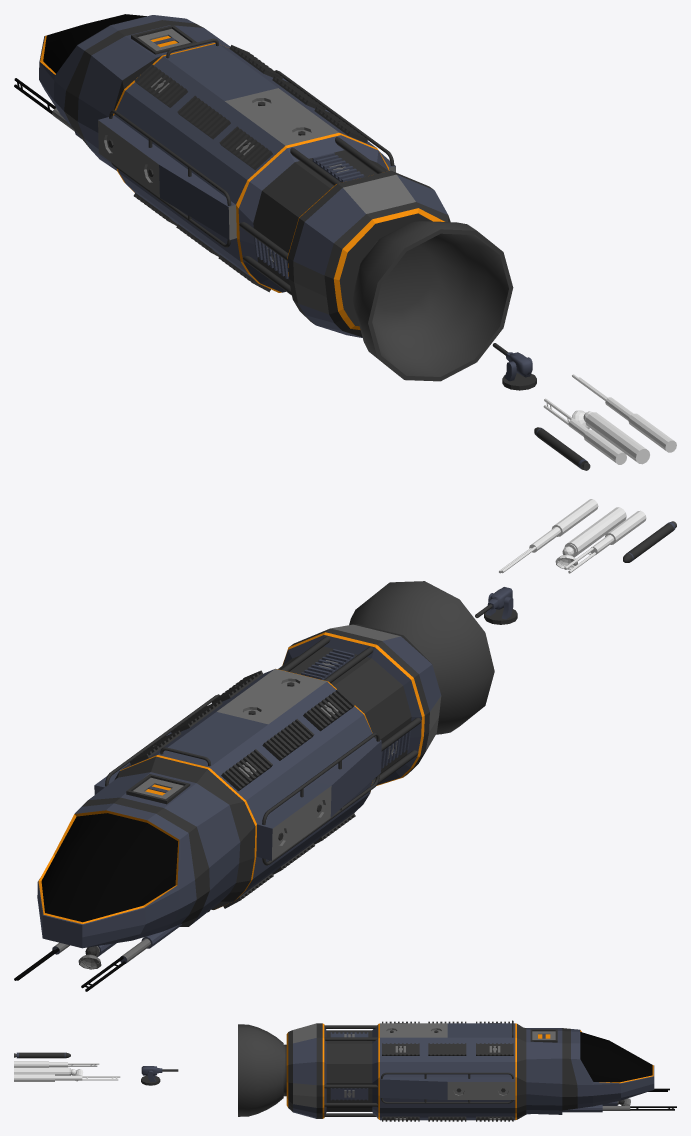
The model's file is SpaceShip1.fbx.
3 views of the same model, one above another, from view 1: azimuth 30°, elevation 25°; view 2: azimuth 150°, elevation 25°; view 3: azimuth 270°, elevation 25° (orthographic). The views are drawn at different scales.
Parts seen in each view (by area): view 1: Ship, Rocket Engine, Antenna 3.001, Antenna 1.001, Antenna 2.001, Torpedo, Cube.013; view 2: Ship, Rocket Engine, Antenna 3.001, Antenna 1.001, Antenna 2.001; view 3: Ship, Rocket Engine, Antenna 1.001, Antenna 3.001, Antenna 2.001, Torpedo, Cube.013, Turret.
Part boxes in pixels (bbox=[...]): Ship: bbox=[14, 14, 450, 337]; Rocket Engine: bbox=[353, 221, 513, 381]; Antenna 3.001: bbox=[583, 411, 649, 464]; Antenna 1.001: bbox=[572, 374, 676, 452]; Antenna 2.001: bbox=[543, 398, 626, 464]; Torpedo: bbox=[534, 427, 590, 470]; Cube.013: bbox=[138, 29, 190, 50]; Ship: bbox=[14, 624, 441, 991]; Rocket Engine: bbox=[349, 581, 494, 734]; Antenna 3.001: bbox=[562, 507, 626, 557]; Antenna 1.001: bbox=[499, 499, 598, 573]; Antenna 2.001: bbox=[564, 510, 646, 573]; Ship: bbox=[286, 1020, 676, 1121]; Rocket Engine: bbox=[238, 1024, 286, 1116]; Antenna 1.001: bbox=[14, 1074, 120, 1081]; Antenna 3.001: bbox=[14, 1067, 76, 1075]; Antenna 2.001: bbox=[14, 1061, 99, 1067]; Torpedo: bbox=[14, 1052, 70, 1058]; Cube.013: bbox=[532, 1031, 555, 1039]; Turret: bbox=[141, 1066, 178, 1075].
Bounding box in the file's own units: 461 × 385 × 2585.
